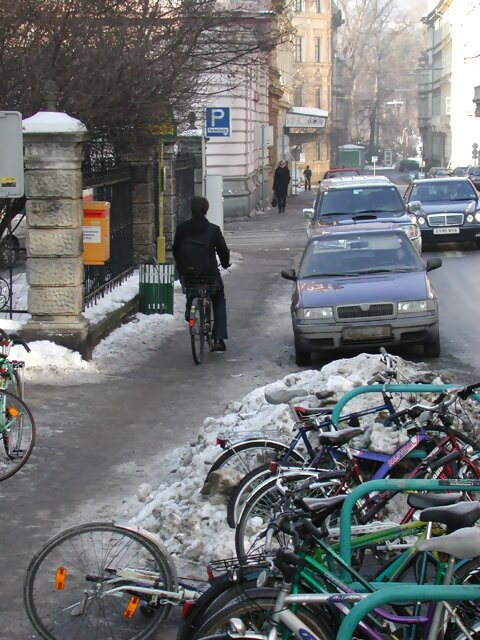person: (162, 192, 252, 349)
